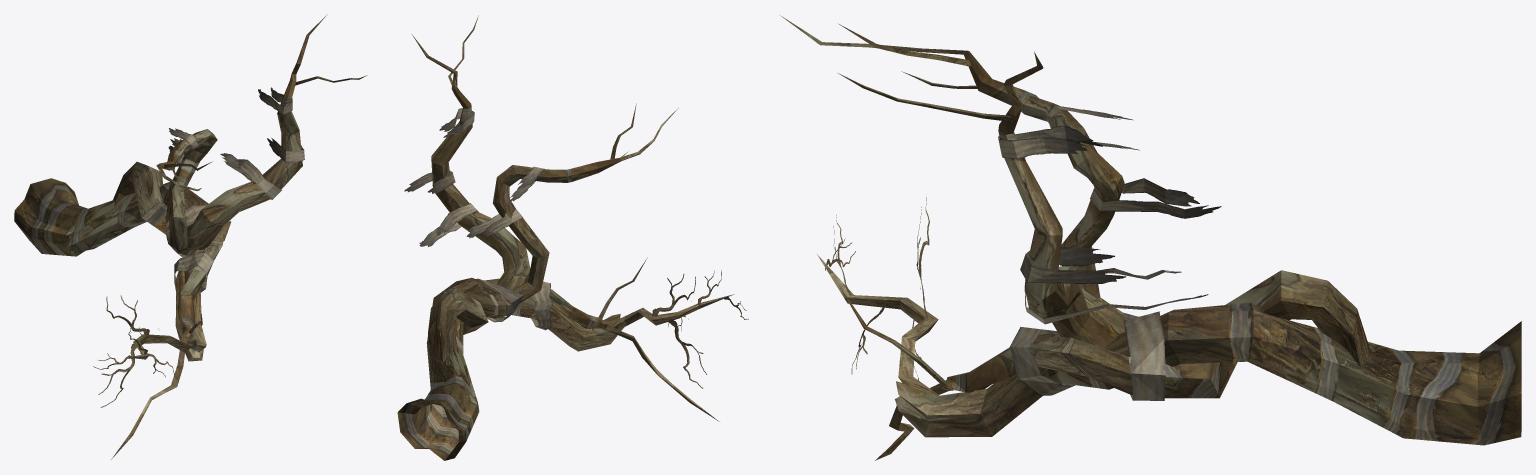
Rendered from aiji_yewai_14_tree_02.obj.
3 views of the same model, side by side, from view 1: azimuth 30°, elevation 25°; view 2: azimuth 150°, elevation 25°; view 3: azimuth 270°, elevation 25° (orthographic). The views are drawn at different scales.
Parts seen in each view (by area): view 1: aiji_yewai_14_tree_02; view 2: aiji_yewai_14_tree_02; view 3: aiji_yewai_14_tree_02.
Part boxes in pixels (bbox=[...]): aiji_yewai_14_tree_02: bbox=[14, 14, 367, 459]; aiji_yewai_14_tree_02: bbox=[397, 15, 748, 460]; aiji_yewai_14_tree_02: bbox=[780, 15, 1521, 460].
Size of the model in its own units: 201 by 237 by 249.
Materials: 1 (1 with a texture image).
